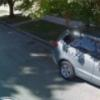cars: (52, 24, 100, 87)
